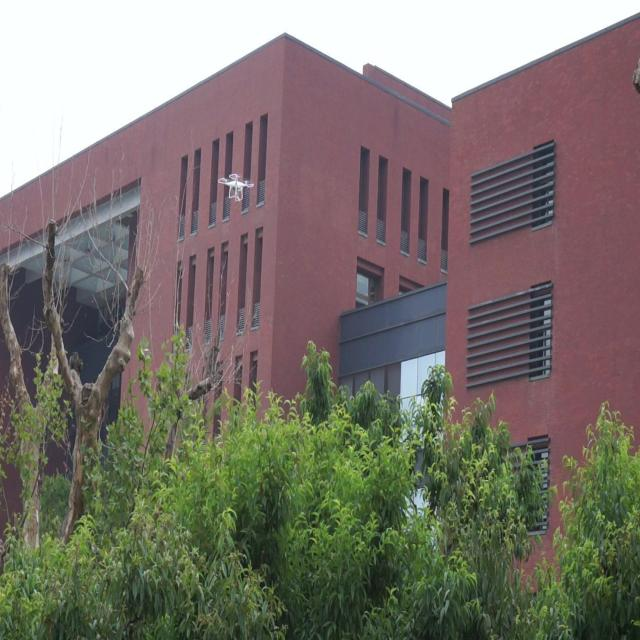drone: (217, 168, 255, 205)
